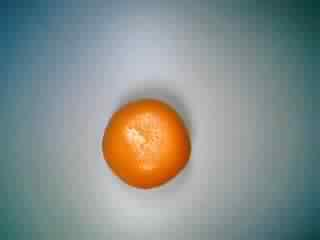orange: (100, 93, 196, 189)
